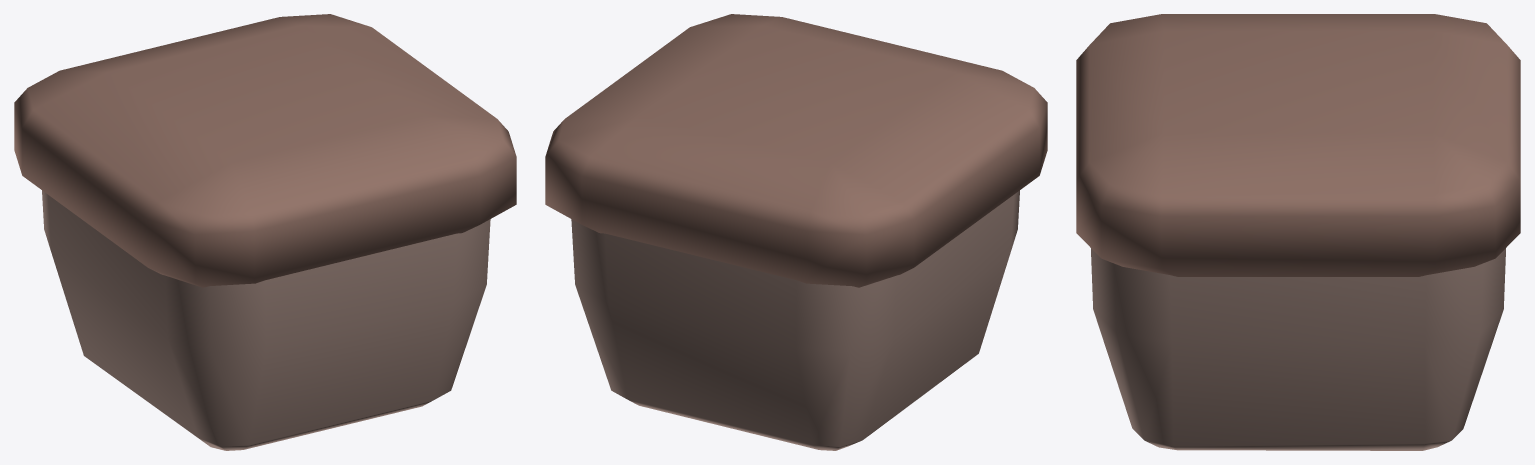
File: chair_001.fbx
3 views of the same model, side by side, from view 1: azimuth 30°, elevation 25°; view 2: azimuth 150°, elevation 25°; view 3: azimuth 270°, elevation 25° (orthographic). The views are drawn at different scales.
Visible parts, largest first — view 1: chair_001; view 2: chair_001; view 3: chair_001.
Boxes of the visible parts, x1,y1,x2,y2 form: chair_001: (14,14,516,450); chair_001: (545,14,1047,450); chair_001: (1076,14,1520,450).
Size of the model in its own units: 54.66 by 53.46 by 41.2.
